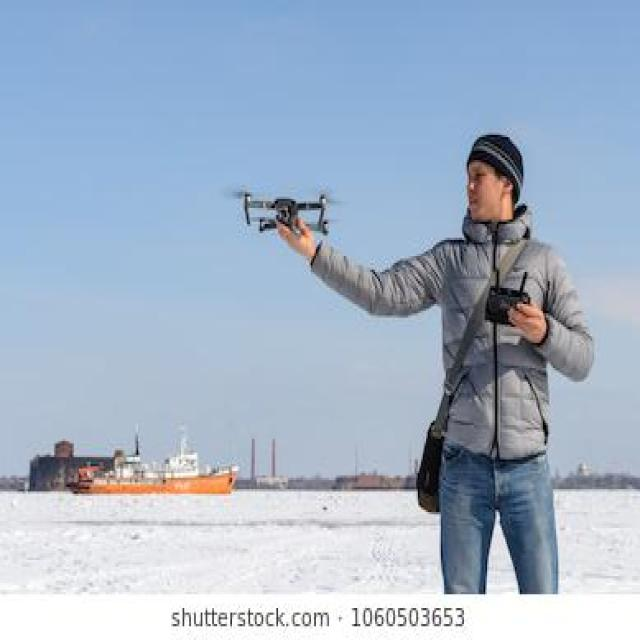drone: (212, 163, 356, 262)
